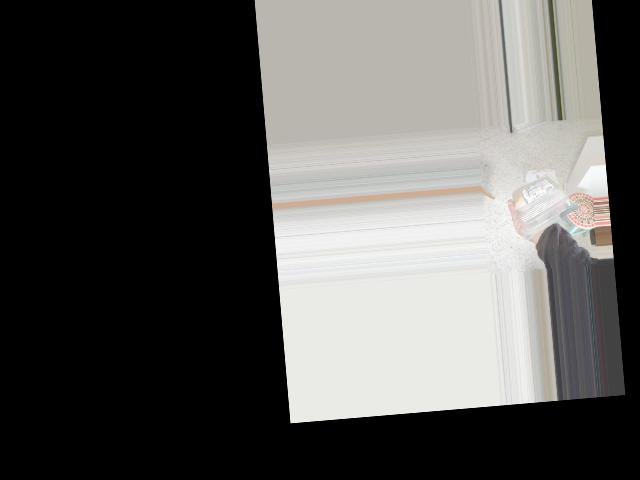cheese: (511, 161, 584, 240)
